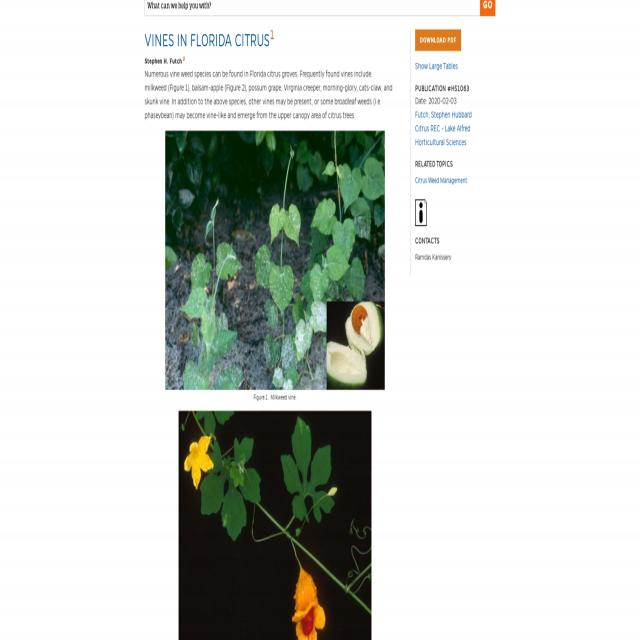button: (165, 131, 385, 390), (178, 409, 372, 640), (415, 29, 461, 51), (415, 199, 427, 226), (480, 0, 496, 16)
field: (144, 0, 480, 16)
